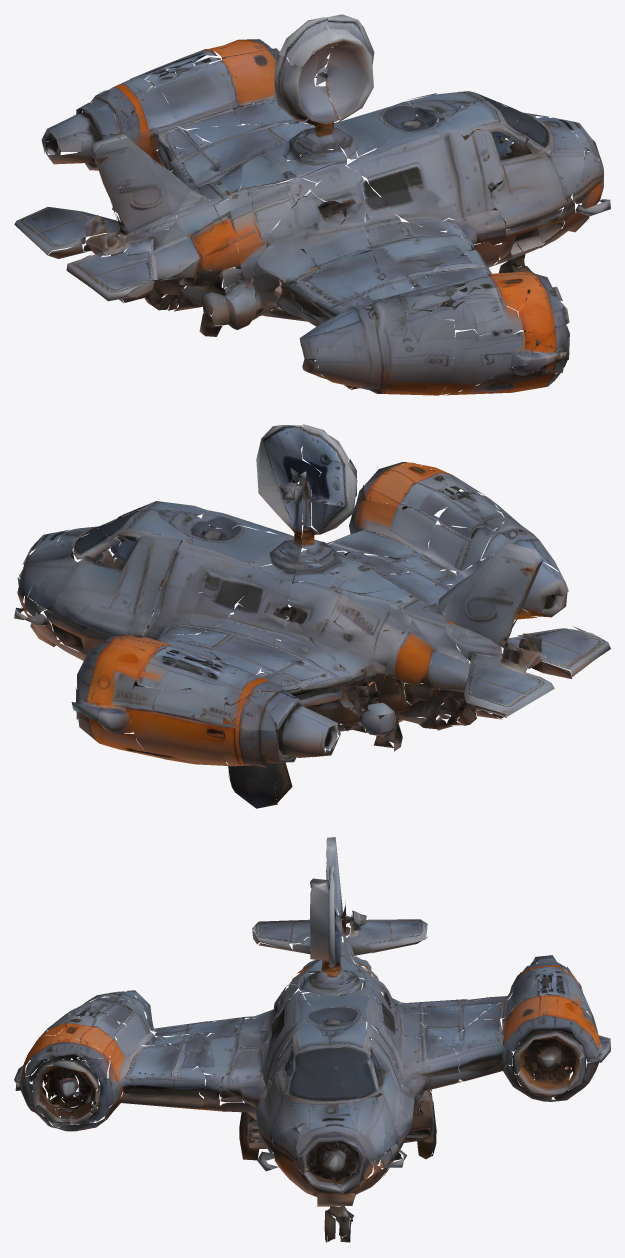
The model's file is mesh_ship_exterior.glb.
3 renders of one model, top to bottom at view 1: azimuth 30°, elevation 25°; view 2: azimuth 150°, elevation 25°; view 3: azimuth 270°, elevation 25°, orthographic. The views are drawn at different scales.
Visible parts, largest first — view 1: tripo_node_3e41ef89-76af-4dee-a3af-49381f9fcb17; view 2: tripo_node_3e41ef89-76af-4dee-a3af-49381f9fcb17; view 3: tripo_node_3e41ef89-76af-4dee-a3af-49381f9fcb17.
Boxes of the visible parts, x1=… form: tripo_node_3e41ef89-76af-4dee-a3af-49381f9fcb17: x1=14, y1=14, x2=610, y2=395; tripo_node_3e41ef89-76af-4dee-a3af-49381f9fcb17: x1=14, y1=424, x2=610, y2=808; tripo_node_3e41ef89-76af-4dee-a3af-49381f9fcb17: x1=14, y1=837, x2=610, y2=1242.
Bounding box in the file's own units: 0.8846 × 0.5334 × 0.9992.
Materials: 1 (1 with a texture image).
